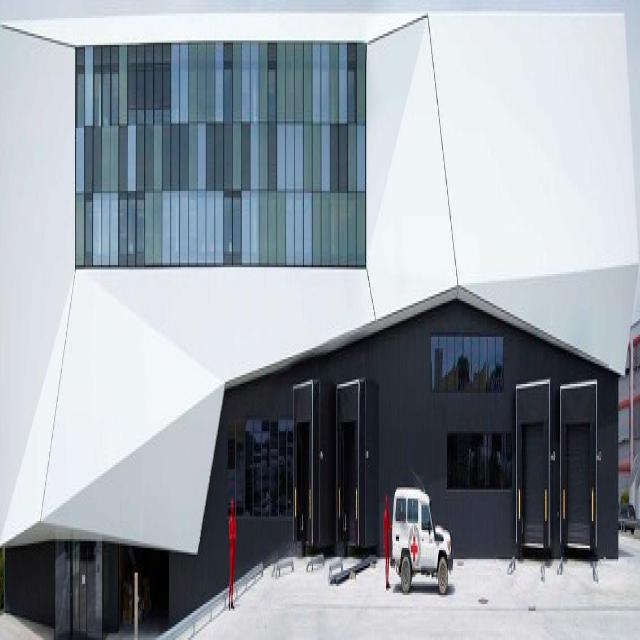door: (560, 381, 597, 551), (515, 378, 550, 552), (336, 381, 360, 548), (292, 377, 313, 548), (54, 539, 74, 638)
window: (76, 41, 364, 267), (227, 419, 293, 517), (431, 338, 503, 390), (450, 435, 510, 488)
